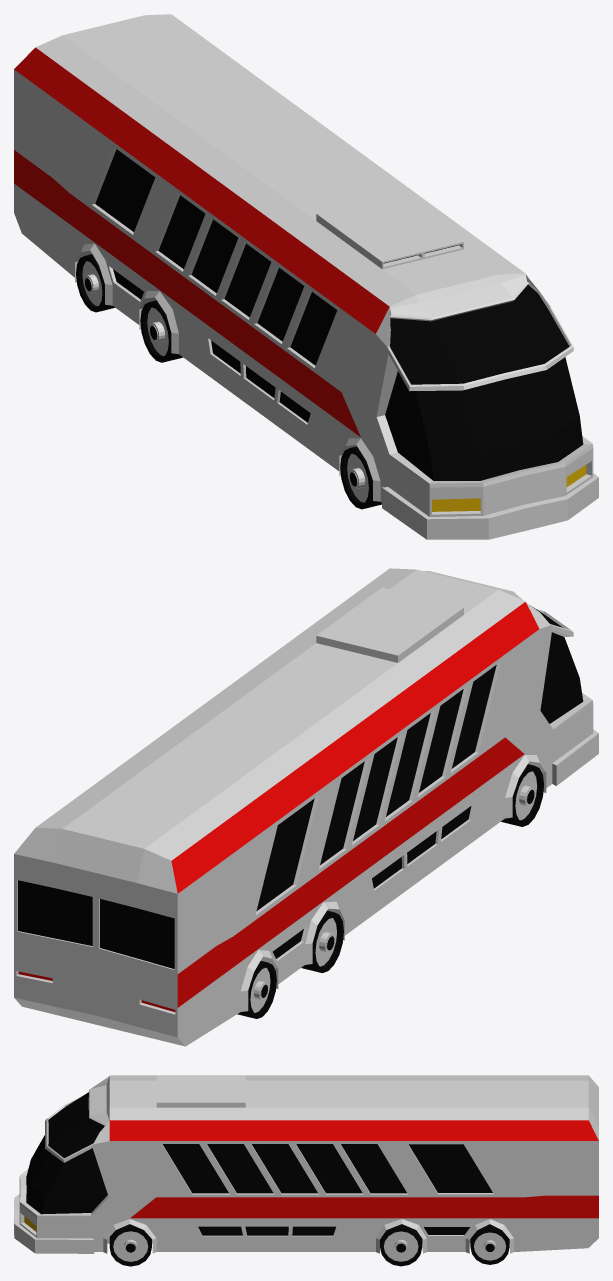
Rendered from autobus_marzec.fbx.
The picture shows the model from 3 angles, top to bottom: view 1: azimuth 30°, elevation 25°; view 2: azimuth 150°, elevation 25°; view 3: azimuth 270°, elevation 25°; orthographic projection. The views are drawn at different scales.
Parts seen in each view (by area): view 1: Cube, Cube.002, Cube.005, Cube.006; view 2: Cube, Cube.002, Cube.005, Cube.006; view 3: Cube, Cube.001, Cube.003, Cube.004.
Boxes of the visible parts, box(x1,y1,x2,y2) form: Cube: box(14, 14, 598, 539); Cube.002: box(340, 446, 381, 509); Cube.005: box(140, 300, 182, 362); Cube.006: box(76, 254, 114, 312); Cube: box(14, 568, 598, 1046); Cube.002: box(501, 764, 543, 826); Cube.005: box(301, 910, 343, 973); Cube.006: box(237, 961, 276, 1018); Cube: box(14, 1075, 598, 1253); Cube.001: box(109, 1224, 151, 1266); Cube.003: box(380, 1224, 422, 1266); Cube.004: box(470, 1224, 509, 1264).
Size of the model in its own units: 334 by 397 by 1413.
